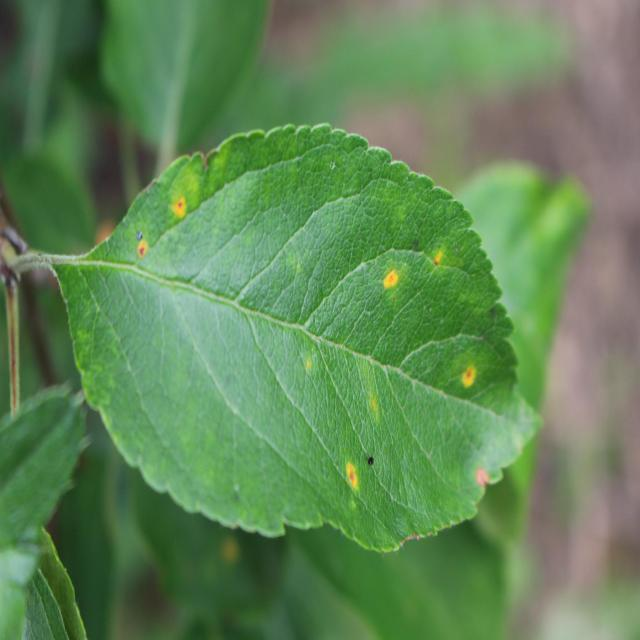Rust: (456, 365, 482, 400), (375, 263, 402, 295), (214, 538, 240, 571), (341, 457, 360, 498), (169, 195, 193, 222), (133, 235, 152, 260), (425, 250, 448, 270)
